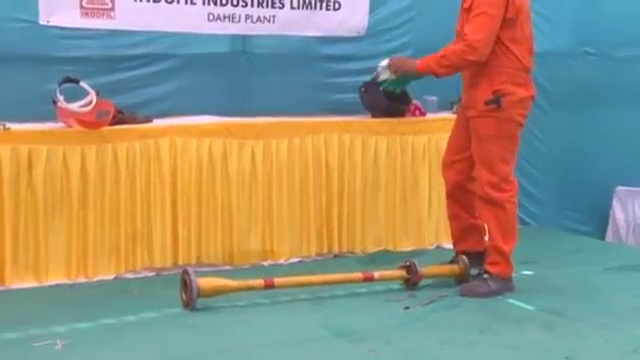person: (391, 1, 535, 300)
